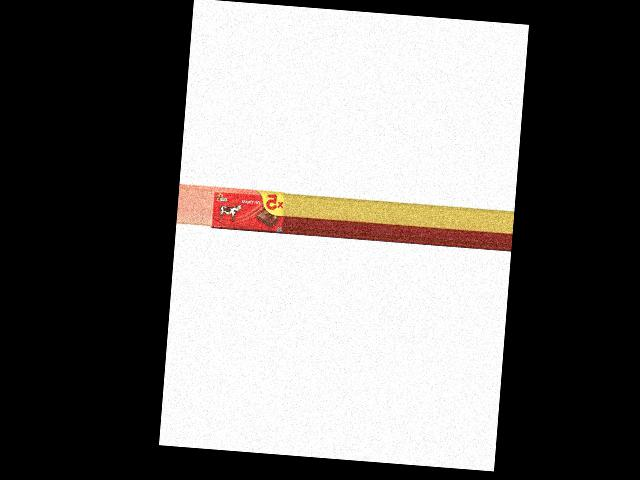chocolate: (208, 185, 285, 233)
